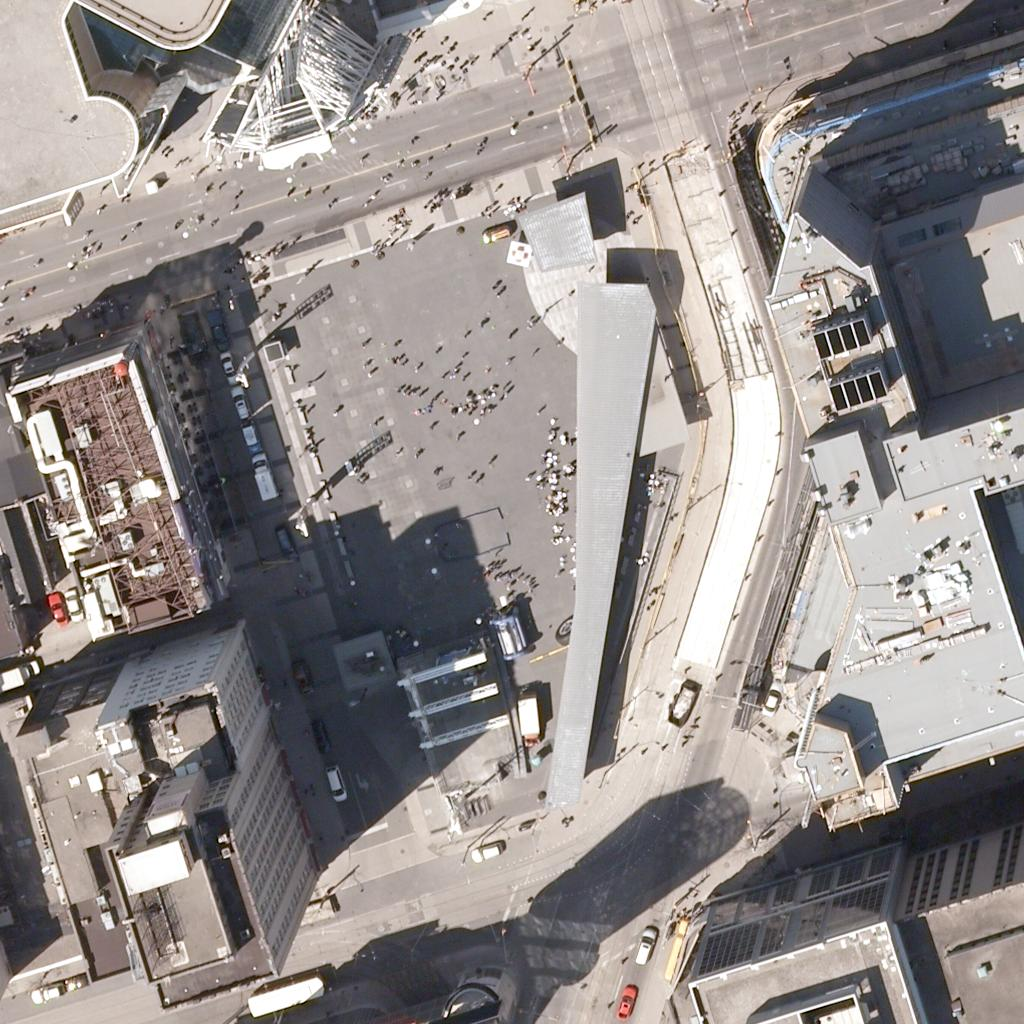car: (201, 316, 235, 350), (210, 348, 244, 382), (220, 387, 254, 421), (233, 423, 267, 457), (267, 528, 301, 562), (55, 585, 89, 619), (40, 594, 74, 628), (283, 657, 317, 691), (0, 658, 34, 692), (754, 684, 788, 718), (303, 720, 337, 754), (316, 767, 350, 801), (470, 834, 504, 868), (626, 933, 660, 967), (32, 975, 66, 1009), (606, 987, 640, 1021)
